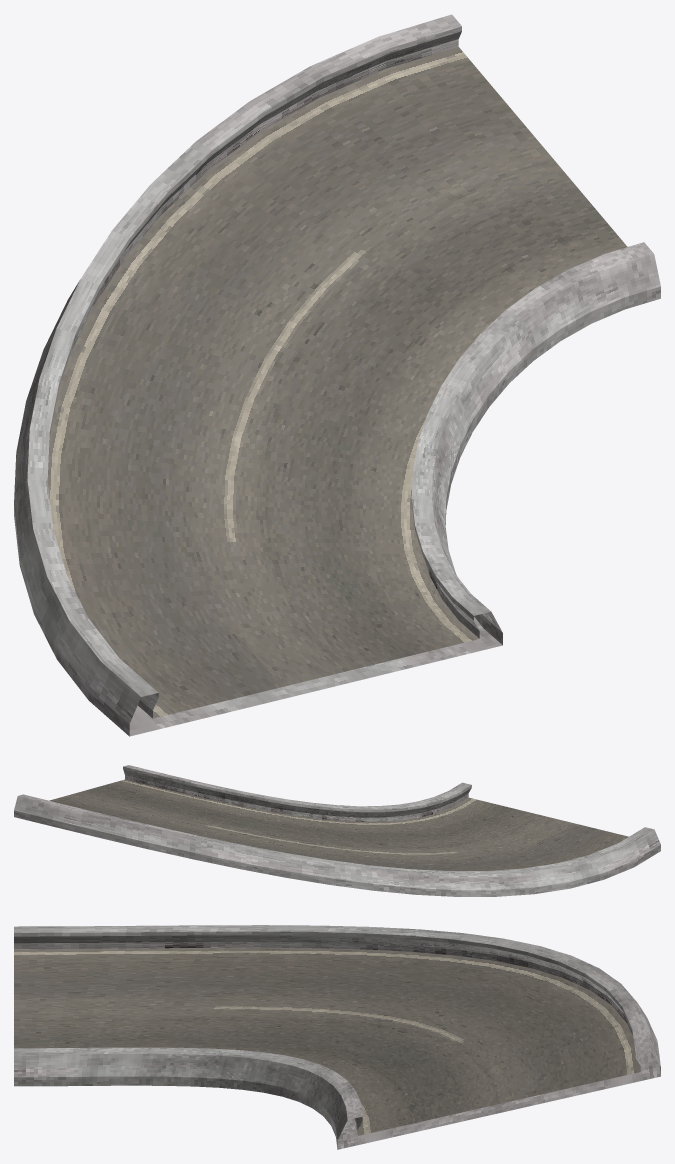
File: road-Turn-Flat-HalfBankedRight-Up1-Right-Size2.glb
3 views of the same model, one above another, from view 1: azimuth 30°, elevation 25°; view 2: azimuth 150°, elevation 25°; view 3: azimuth 270°, elevation 25° (orthographic). The views are drawn at different scales.
Parts seen in each view (by area): view 1: road-Turn-Flat-HalfBankedRight-Up1-Right-Size2; view 2: road-Turn-Flat-HalfBankedRight-Up1-Right-Size2; view 3: road-Turn-Flat-HalfBankedRight-Up1-Right-Size2.
Boxes of the visible parts, x1,y1,x2,y2 form: road-Turn-Flat-HalfBankedRight-Up1-Right-Size2: (14, 14, 660, 736); road-Turn-Flat-HalfBankedRight-Up1-Right-Size2: (14, 765, 660, 896); road-Turn-Flat-HalfBankedRight-Up1-Right-Size2: (14, 925, 660, 1149).
Bounding box in the file's own units: 2 × 0.5859 × 2.
2 materials, 2 textured.
